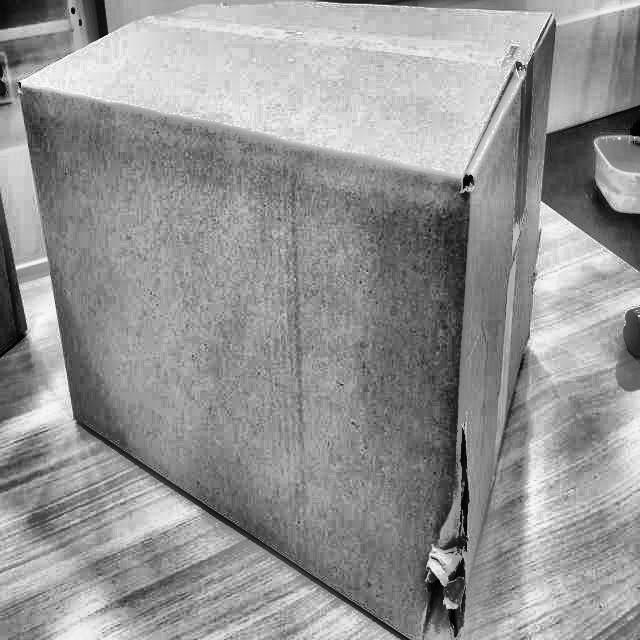box: (16, 0, 571, 639)
hole: (417, 440, 471, 628)
